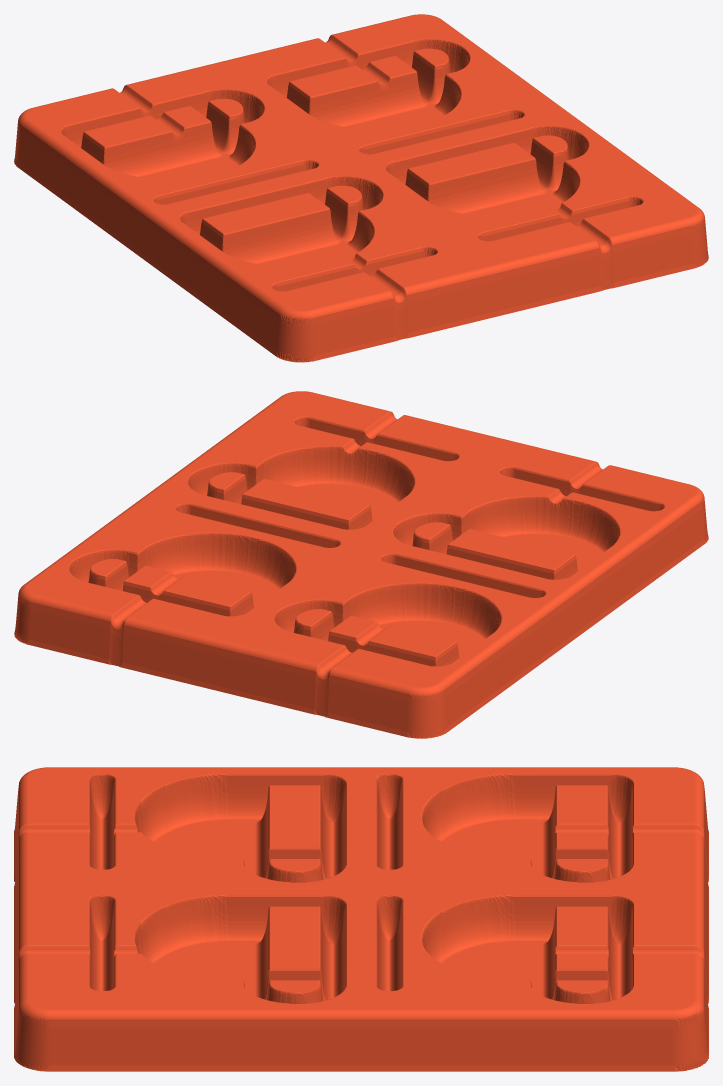
The model's file is mold.glb.
3 renders of one model, top to bottom at view 1: azimuth 30°, elevation 25°; view 2: azimuth 150°, elevation 25°; view 3: azimuth 270°, elevation 25°, orthographic. The views are drawn at different scales.
Parts seen in each view (by area): view 1: geometry_0; view 2: geometry_0; view 3: geometry_0.
Part boxes in pixels (x1,y1,x2,y2): geometry_0: [14, 14, 708, 362]; geometry_0: [14, 391, 708, 738]; geometry_0: [14, 767, 708, 1071].
Bounding box in the file's own units: 0.1497 × 0.0155 × 0.1735.
